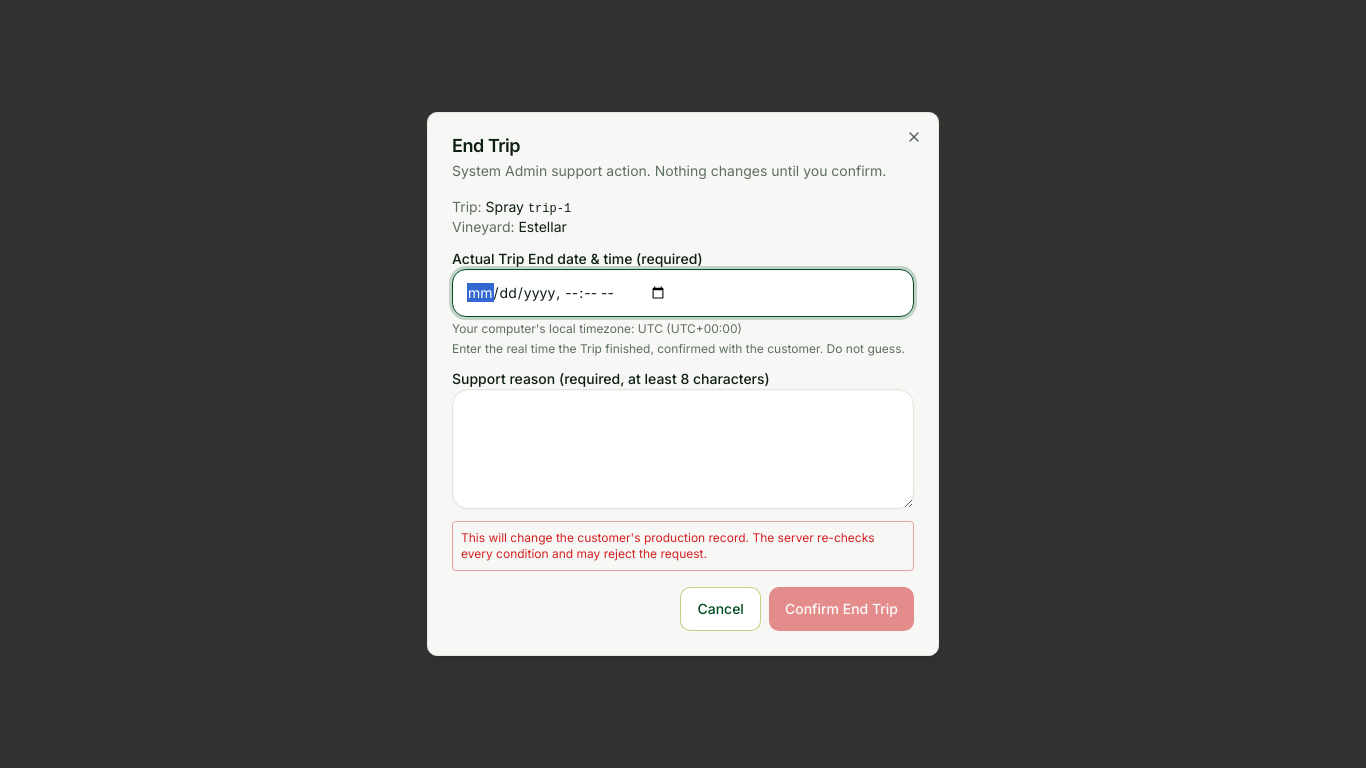
it: End Tank / End Trip dialog: mandatory actual end time › requires a reason of at least 8 characters
Type "2026-09-23T23:30" into the field labelled "Actual Trip End date & time (required)".
click(683, 293); type("2026-09-23T23:30")  # box [452,269,914,317]
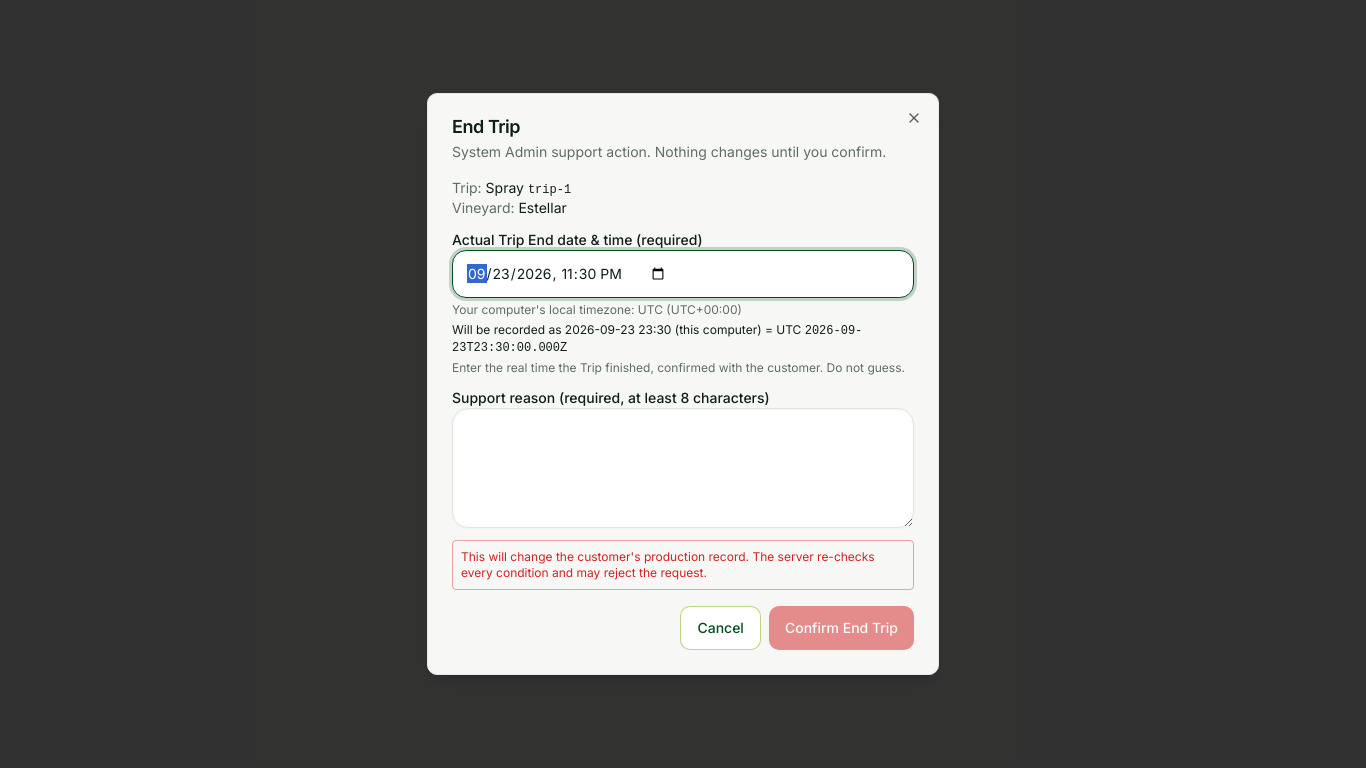
Type "short" into the text box labelled "Support reason (required, at least 8 characters)".
click(683, 468); type("short")  # box [452,408,914,528]
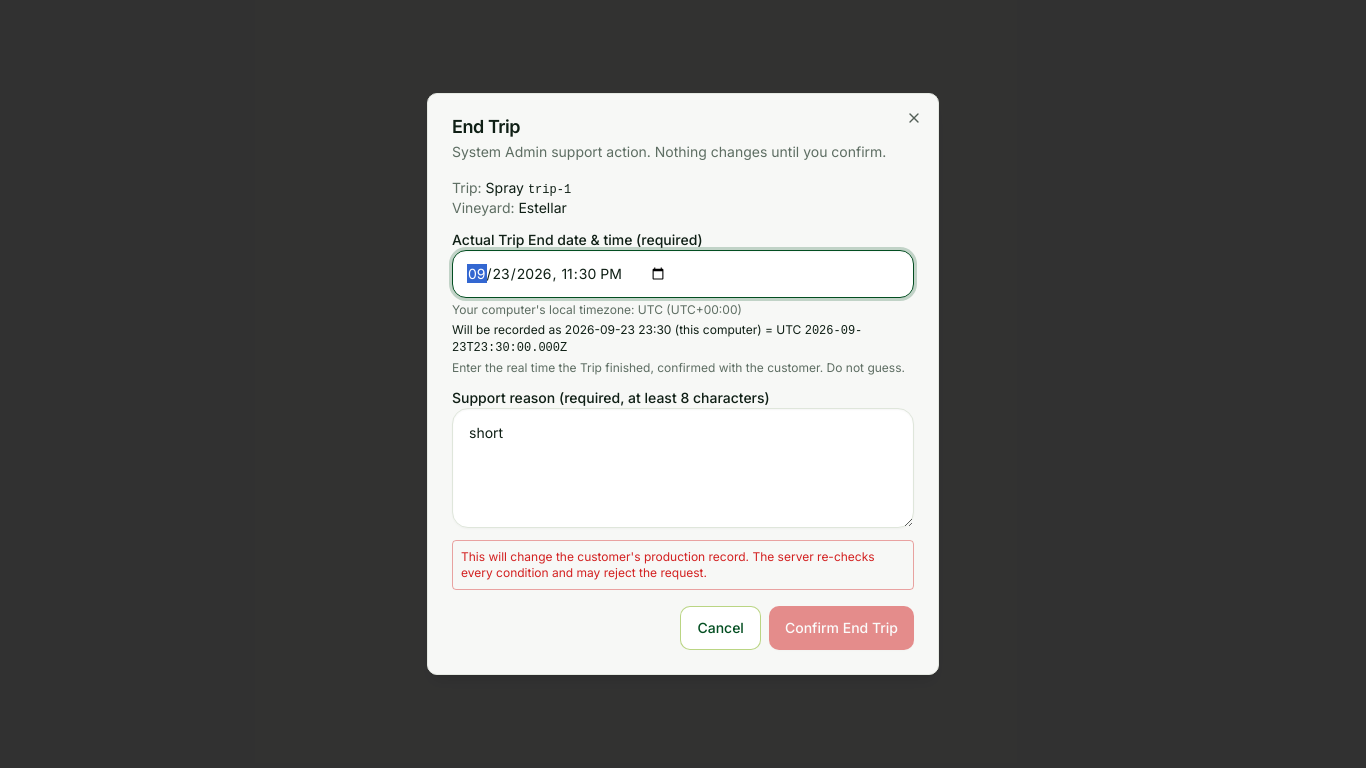
Expected: the button "Confirm End Trip" is disabled, [769,606,914,650]
Replace the text in the text box labelled "Support reason (required, at least 8 characters)" with "Operator confirmed" at (683, 468), box [452,408,914,528]
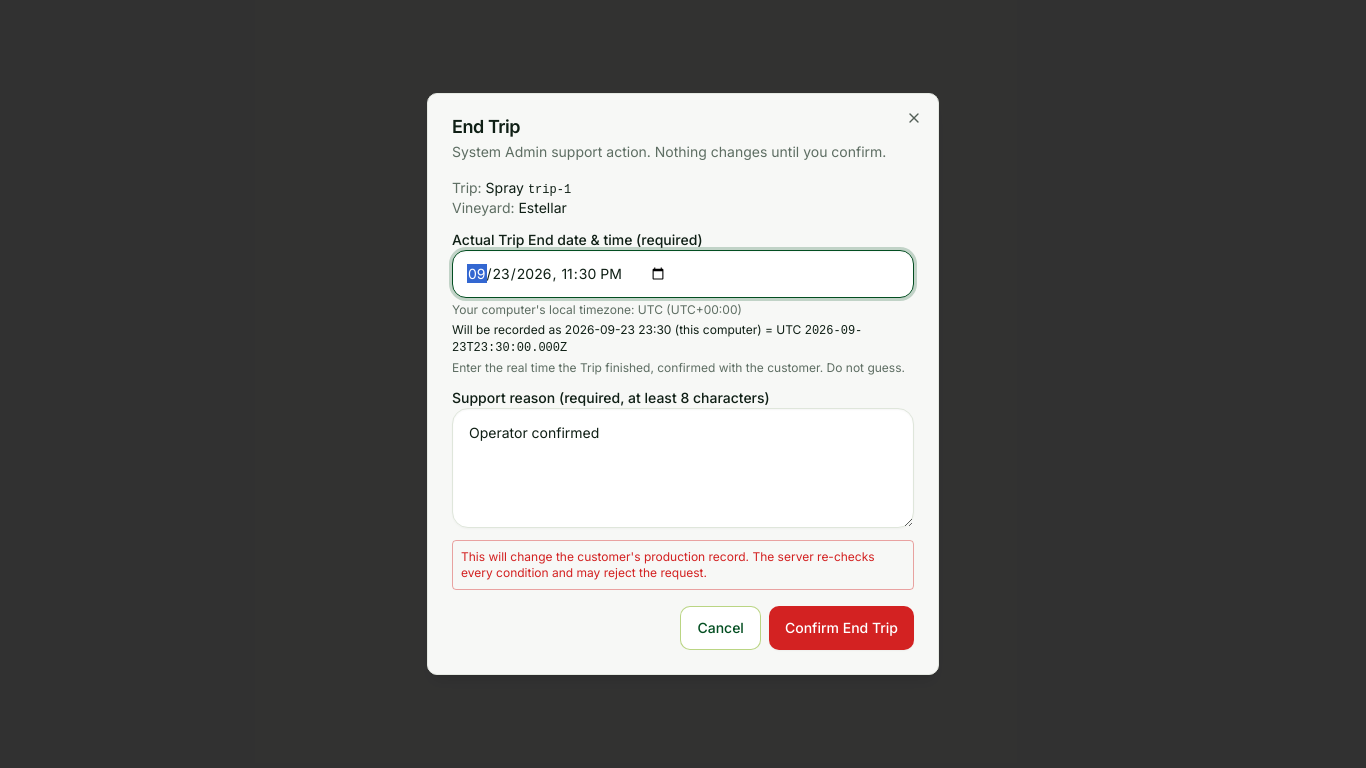
Now the button "Confirm End Trip" is enabled, box [769,606,914,650]
